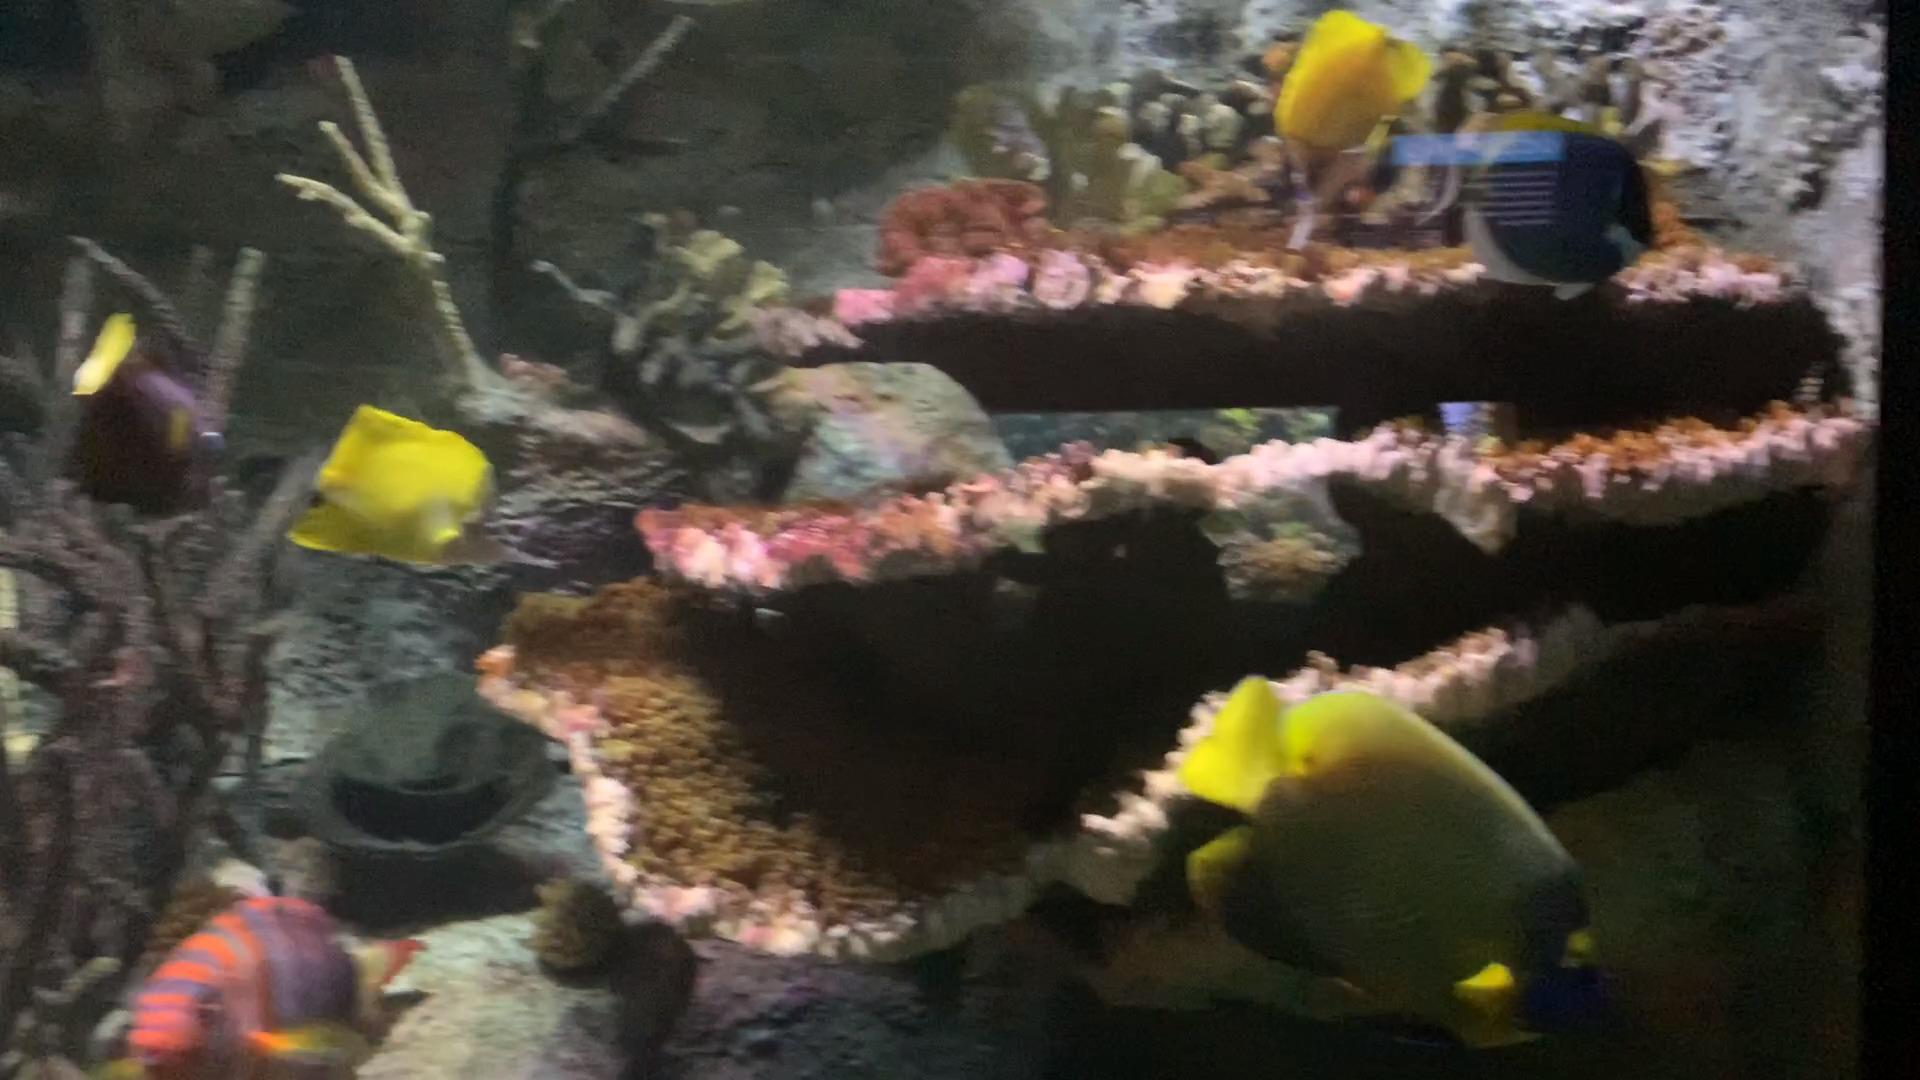fish: (1176, 674, 1598, 1033), (125, 891, 429, 1080), (1382, 103, 1662, 302), (284, 407, 505, 575), (1265, 4, 1441, 185), (73, 318, 232, 481)
